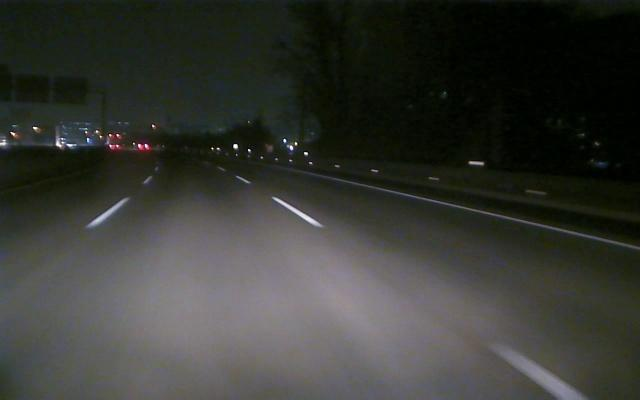lane: (238, 176, 591, 400), (307, 173, 639, 251), (86, 177, 151, 229)
